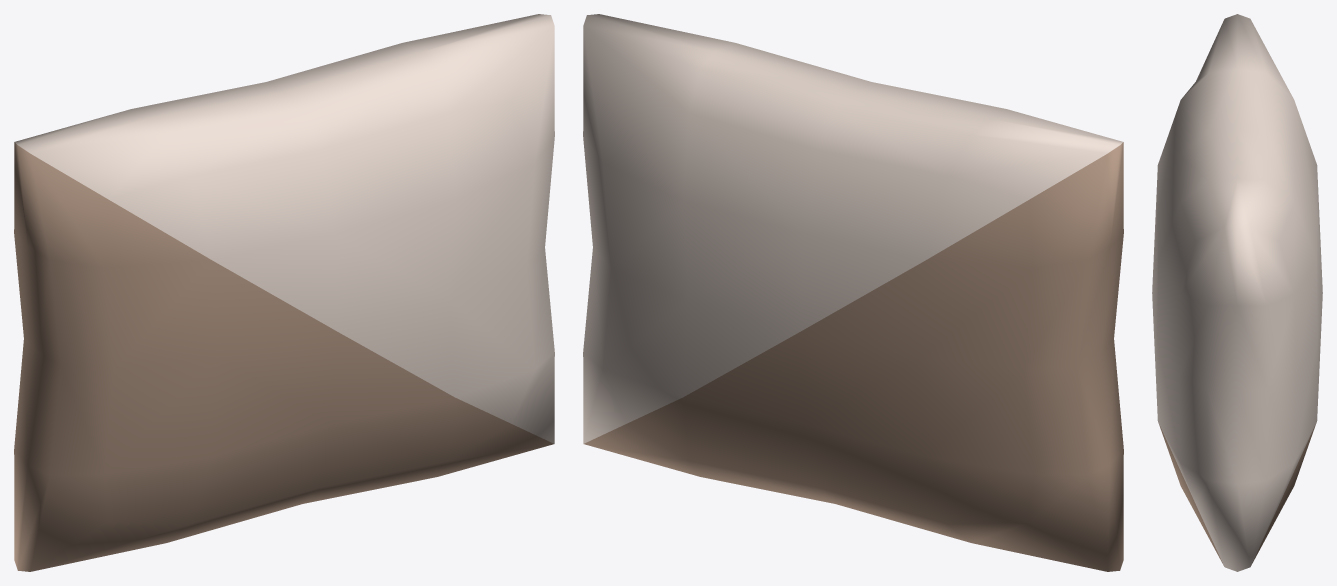
File: Pillow_18.glb
The picture shows the model from 3 angles, left to right: view 1: azimuth 30°, elevation 25°; view 2: azimuth 150°, elevation 25°; view 3: azimuth 270°, elevation 25°; orthographic projection. The views are drawn at different scales.
Parts seen in each view (by area): view 1: Pillow_18; view 2: Pillow_18; view 3: Pillow_18.
Part boxes in pixels (box(x1,y1,x2,y2)): Pillow_18: box(14, 14, 554, 571); Pillow_18: box(583, 14, 1123, 571); Pillow_18: box(1152, 14, 1322, 571).
Size of the model in its own units: 0.7178 by 0.5475 by 0.2447.
1 material, 1 textured.
